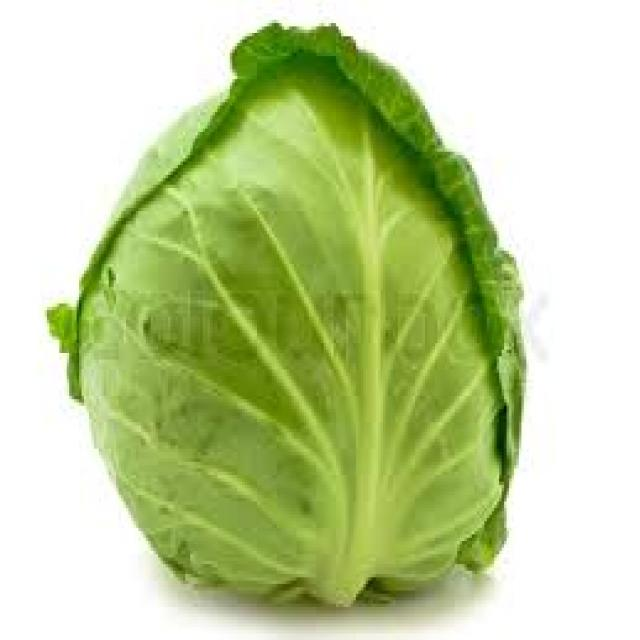organic waste: (37, 16, 524, 604)
